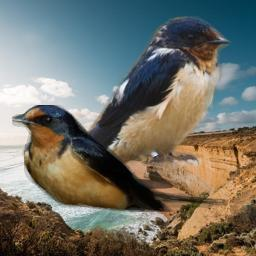Swallow: (48, 15, 233, 178), (12, 105, 228, 212)
